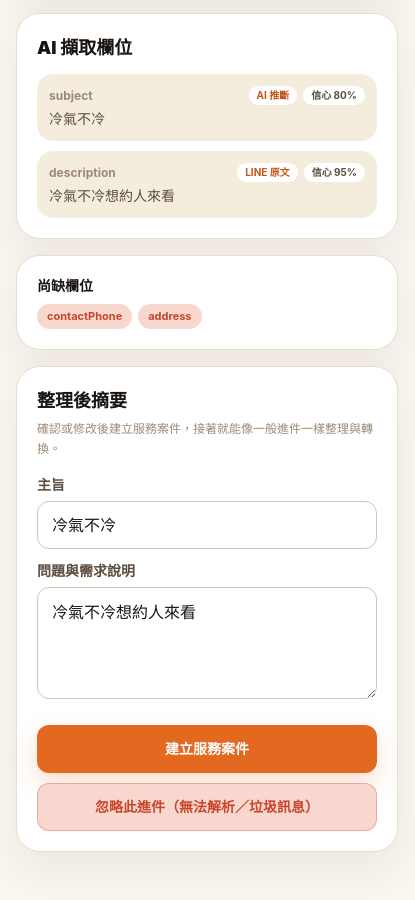
Scenario: PilotIntakeDraftReview › surfaces a dismiss error
(page scrolled)
Click the button "忽略此進件（無法解析／垃圾訊息）".
click(207, 806)  # box [37,782,377,830]
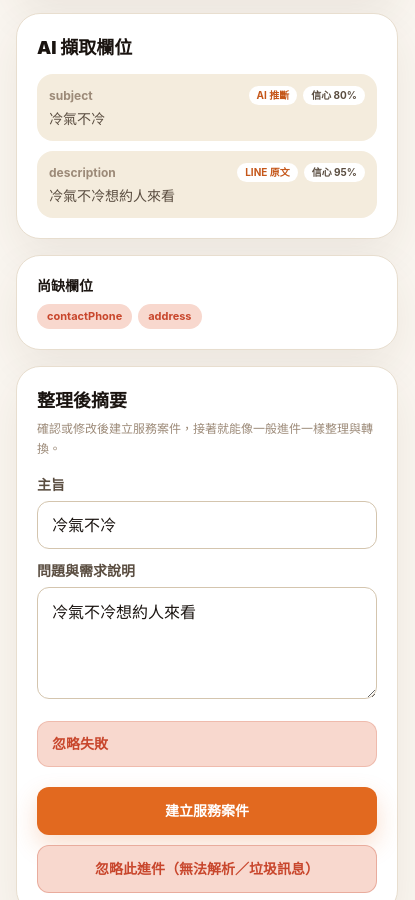
expect the text "忽略失敗" is shown: met, box [37,720,377,766]
